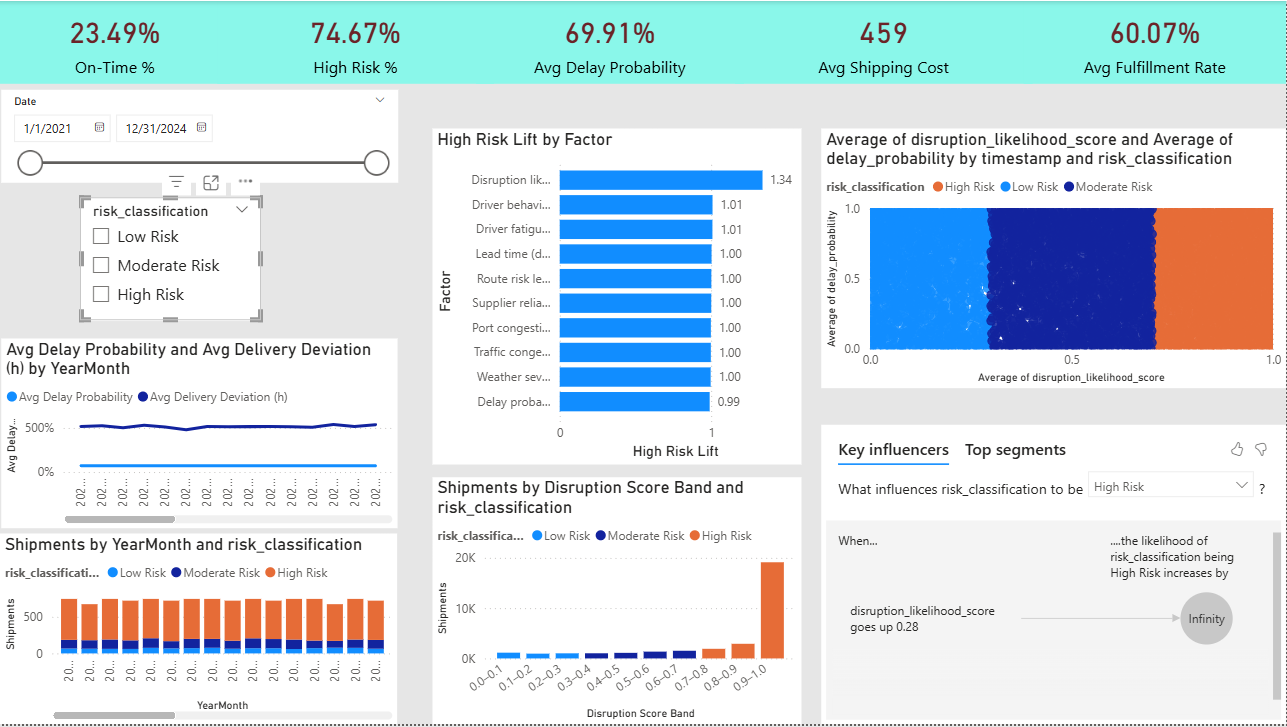

The page's visual inventory and layout, read from the dashboard file:
{"tool":"powerbi","page":{"name":"Page 1","canvas":[1280,720],"ordinal":0},"visuals":[{"type":"card","fields":{"Values":["_Measures.On-Time %"]},"box":[0,0,228.9,82.1],"z":0},{"type":"card","fields":{"Values":["_Measures.Avg Delay Probability"]},"box":[473.9,0,266.2,82.1],"z":1000},{"type":"card","fields":{"Values":["_Measures.High Risk %"]},"box":[216.4,0,274.9,82.1],"z":2000},{"type":"card","fields":{"Values":["_Measures.Avg Shipping Cost"]},"box":[731.4,0,296.1,82.1],"z":3000},{"type":"card","fields":{"Values":["_Measures.Avg Fulfillment Rate"]},"box":[1018.8,0,261.2,82.1],"z":4000},{"type":"lineChart","fields":{"Category":["DateTable.YearMonth"],"Y":["_Measures.Avg Delay Probability","_Measures.Avg Delivery Deviation (h)"]},"box":[1.2,335.9,394.3,189.1],"z":5000},{"type":"columnChart","fields":{"Category":["DateTable.YearMonth"],"Y":["_Measures.Shipments"],"Series":["Logistics.risk_classification"]},"box":[0,529.9,395.6,190.3],"z":6000},{"type":"slicer","fields":{"Values":["DateTable.Date"]},"box":[1.2,88.3,394.3,92.1],"z":7000},{"type":"keyDriversVisual","fields":{"Target":["dynamic_supply_chain_logistics_dataset.risk_classification"],"ExplainBy":["dynamic_supply_chain_logistics_dataset.disruption_likelihood_score","dynamic_supply_chain_logistics_dataset.fatigue_monitoring_score","dynamic_supply_chain_logistics_dataset.driver_behavior_score","dynamic_supply_chain_logistics_dataset.lead_time_days","dynamic_supply_chain_logistics_dataset.port_congestion_level","dynamic_supply_chain_logistics_dataset.route_risk_level","dynamic_supply_chain_logistics_dataset.supplier_reliability_score","dynamic_supply_chain_logistics_dataset.traffic_congestion_level","dynamic_supply_chain_logistics_dataset.weather_condition_severity","Logistics.delay_probability"]},"box":[817.3,421.7,462.8,298.6],"z":9000},{"type":"clusteredBarChart","fields":{"Category":["Factors.Factor"],"Y":["Logistics.High Risk Lift"]},"box":[430.4,126.9,367,334.6],"z":10000},{"type":"columnChart","fields":{"Category":["Logistics.Disruption Score Band"],"Y":["_Measures.Shipments"],"Series":["Logistics.risk_classification"]},"box":[430.4,473.9,367,246.3],"z":11000},{"type":"scatterChart","fields":{"Category":["Logistics.timestamp"],"Series":["dynamic_supply_chain_logistics_dataset.risk_classification"],"X":["Avg(dynamic_supply_chain_logistics_dataset.disruption_likelihood_score)"],"Y":["Logistics.delay_probability"]},"box":[817.3,126.9,462.8,258.7],"z":12000},{"type":"slicer","fields":{"Values":["Logistics.risk_classification"]},"box":[79.6,195.3,180.4,123.2],"z":12002}]}

Visuals, with their boxes in screenshot pixels (x1, y1, x2, y2), scaled from the page's 1280x720 canvas onto the 1287x727 screenshot:
card - _Measures.On-Time %: crop(0, 0, 230, 83)
card - _Measures.Avg Delay Probability: crop(476, 0, 744, 83)
card - _Measures.High Risk %: crop(218, 0, 494, 83)
card - _Measures.Avg Shipping Cost: crop(735, 0, 1033, 83)
card - _Measures.Avg Fulfillment Rate: crop(1024, 0, 1286, 83)
lineChart - DateTable.YearMonth x _Measures.Avg Delay Probability: crop(1, 339, 398, 530)
columnChart - DateTable.YearMonth x _Measures.Shipments: crop(0, 535, 398, 726)
slicer - DateTable.Date: crop(1, 89, 398, 182)
keyDriversVisual - dynamic_supply_chain_logistics_dataset.risk_classification x dynamic_supply_chain_logistics_dataset.disruption_likelihood_score: crop(822, 426, 1286, 726)
clusteredBarChart - Factors.Factor x Logistics.High Risk Lift: crop(433, 128, 802, 466)
columnChart - Logistics.Disruption Score Band x _Measures.Shipments: crop(433, 479, 802, 726)
scatterChart - Logistics.timestamp x dynamic_supply_chain_logistics_dataset.risk_classification: crop(822, 128, 1286, 389)
slicer - Logistics.risk_classification: crop(80, 197, 261, 322)
